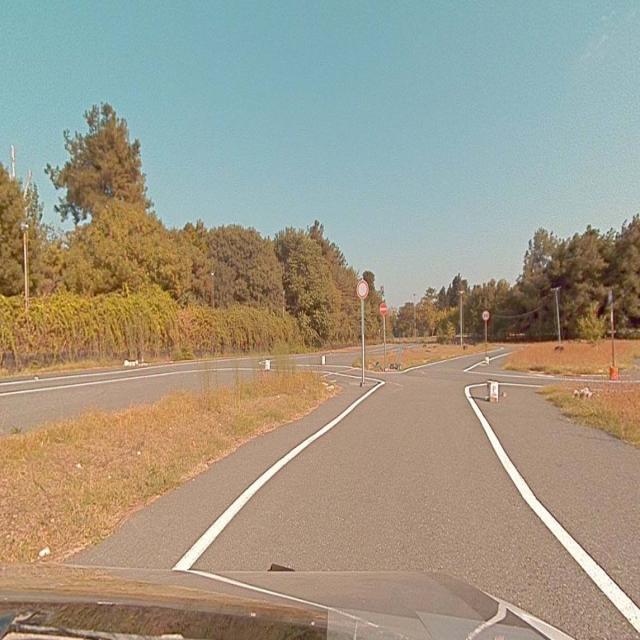girisyok: (380, 303, 387, 316)
